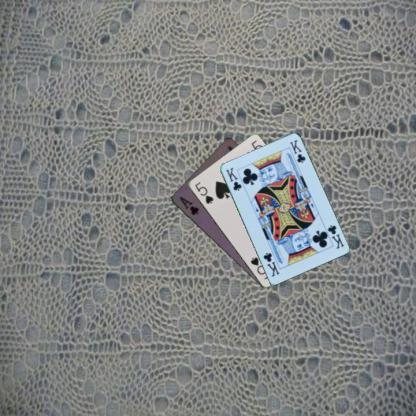5s: (192, 179, 214, 205)
Ac: (176, 194, 200, 217)
Kc: (223, 164, 243, 192), (325, 223, 345, 250)
